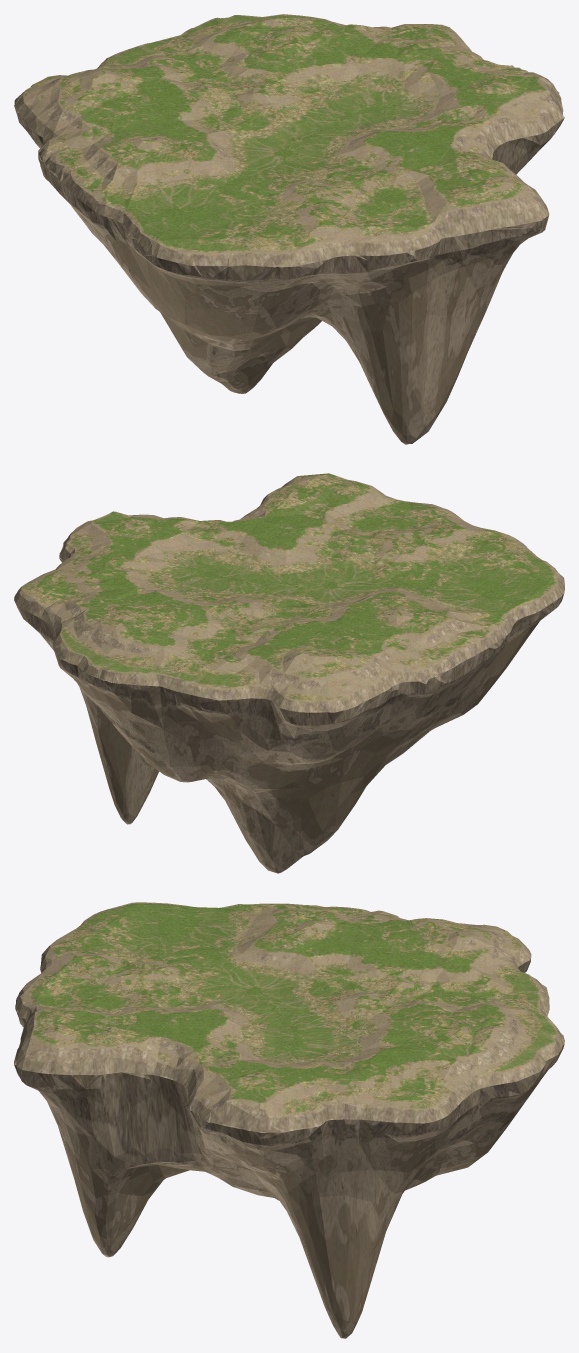
Rendered from island.glb.
3 renders of one model, top to bottom at view 1: azimuth 30°, elevation 25°; view 2: azimuth 150°, elevation 25°; view 3: azimuth 270°, elevation 25°, orthographic. The views are drawn at different scales.
Visible parts, largest first — view 1: island_1; view 2: island_1; view 3: island_1.
Boxes of the visible parts, box(x1,y1,x2,y2) form: island_1: box(14, 14, 564, 444); island_1: box(14, 473, 564, 873); island_1: box(14, 902, 564, 1338).
Size of the model in its own units: 4.22 by 2.57 by 4.38.
Materials: 1 (1 with a texture image).
